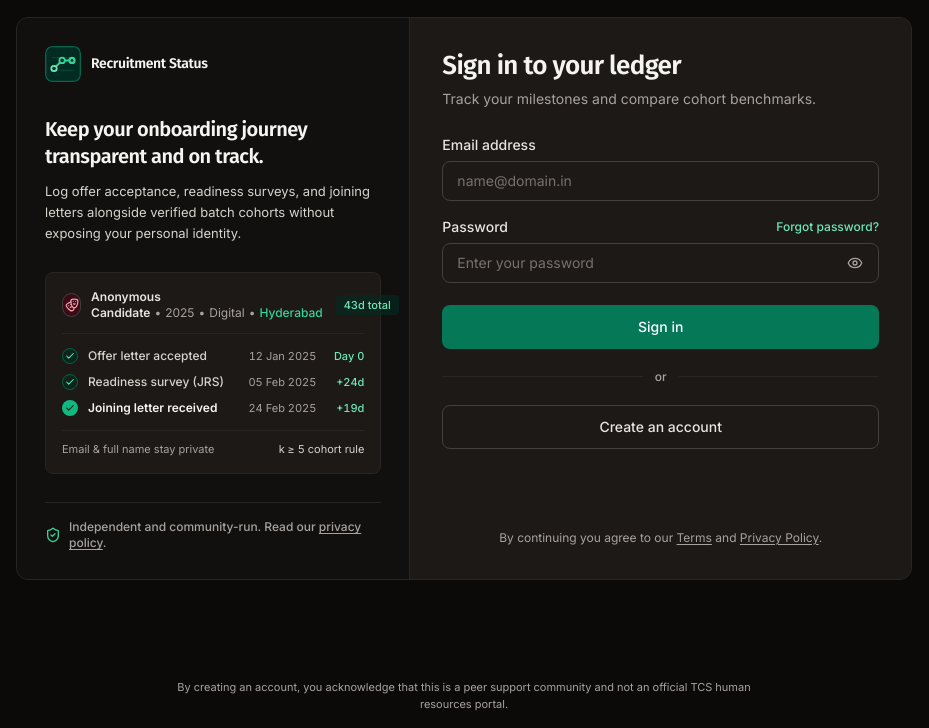
LoginPage › shows a countdown on RATE_LIMITED (429 + Retry-After)
Type "c@example.com" into the field labelled "Email address".
click(661, 181); type("c@example.com")  # box [442,161,879,201]
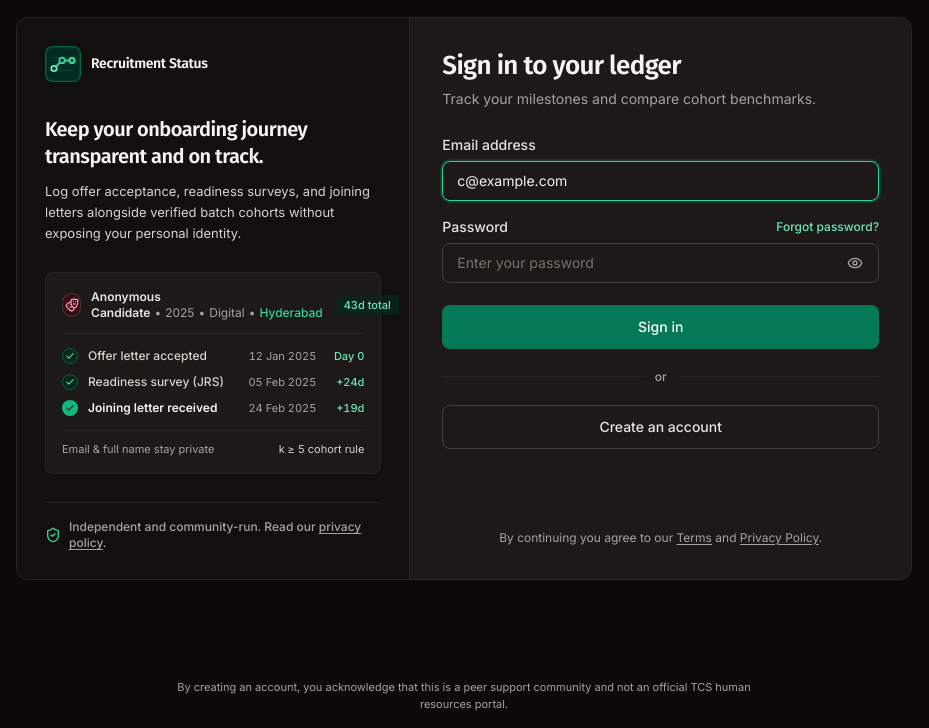
Type "password123" into the password field labelled "Password".
click(661, 263); type("password123")  # box [442,243,879,283]
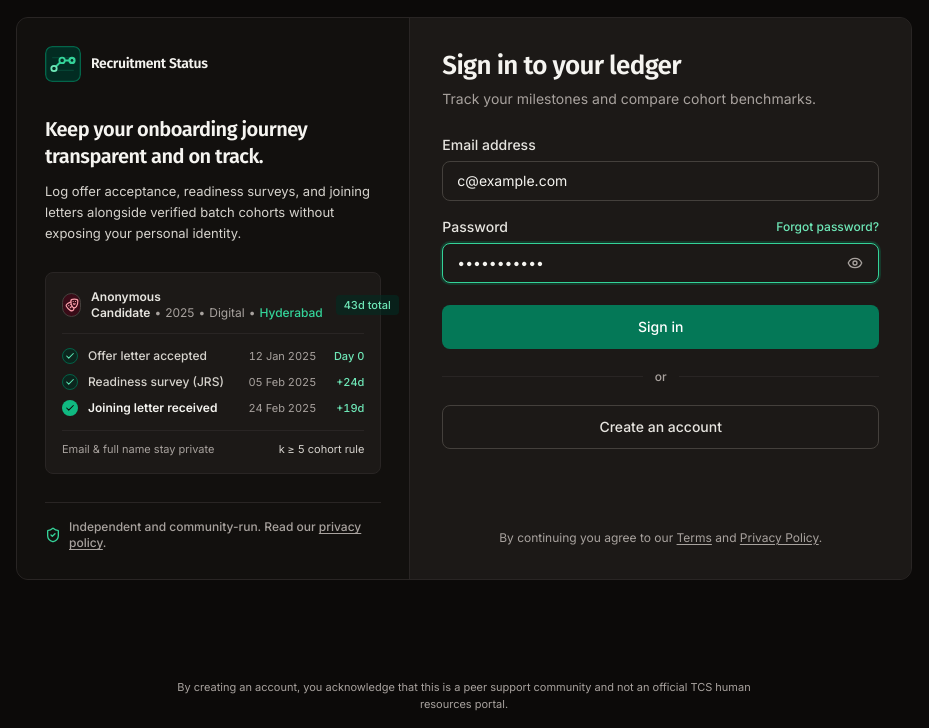
Click the button "Sign in".
click(661, 327)  # box [442,305,879,349]
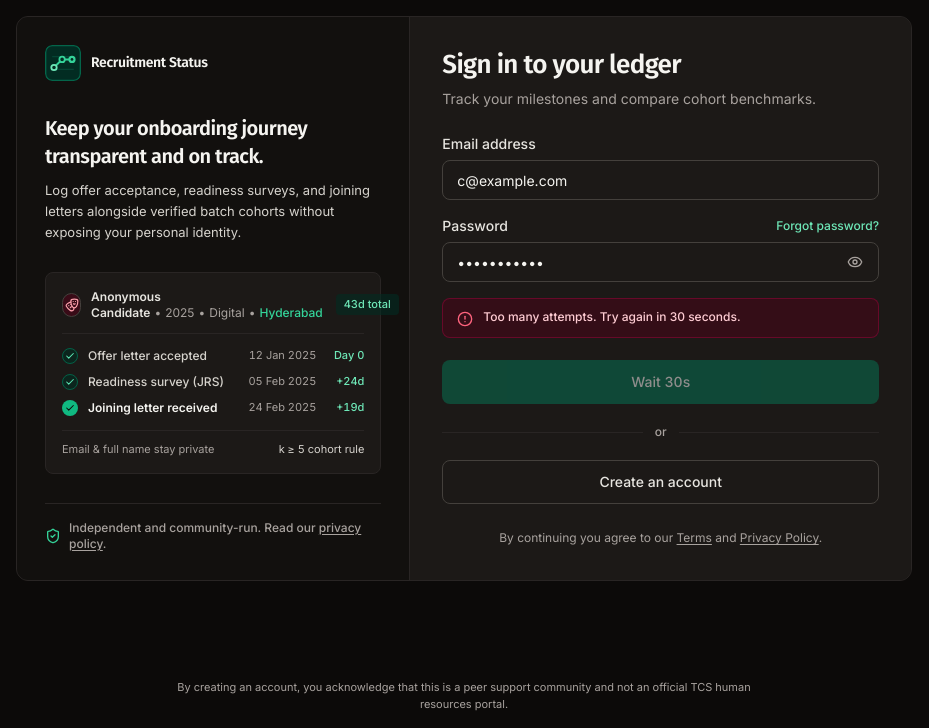
Expected: the message shows "Try again in 30 second", [483,309,741,324]
